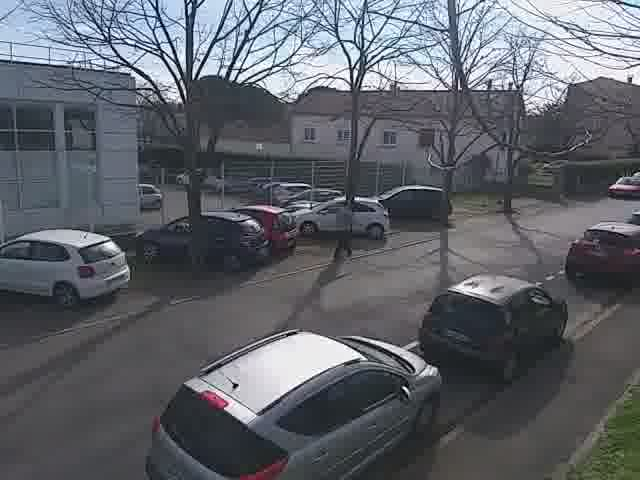persona: (329, 187, 359, 265)
